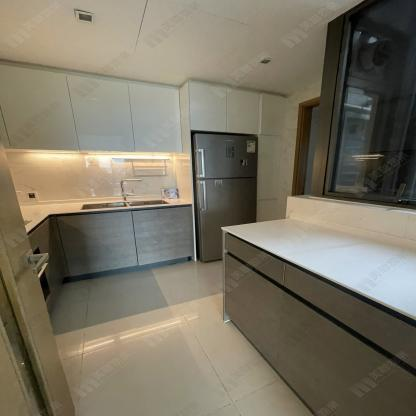Cupboard: (0, 64, 181, 154)
Faucet: (116, 176, 145, 200)
Fridge: (194, 132, 259, 262)
Sink: (79, 199, 169, 210)
